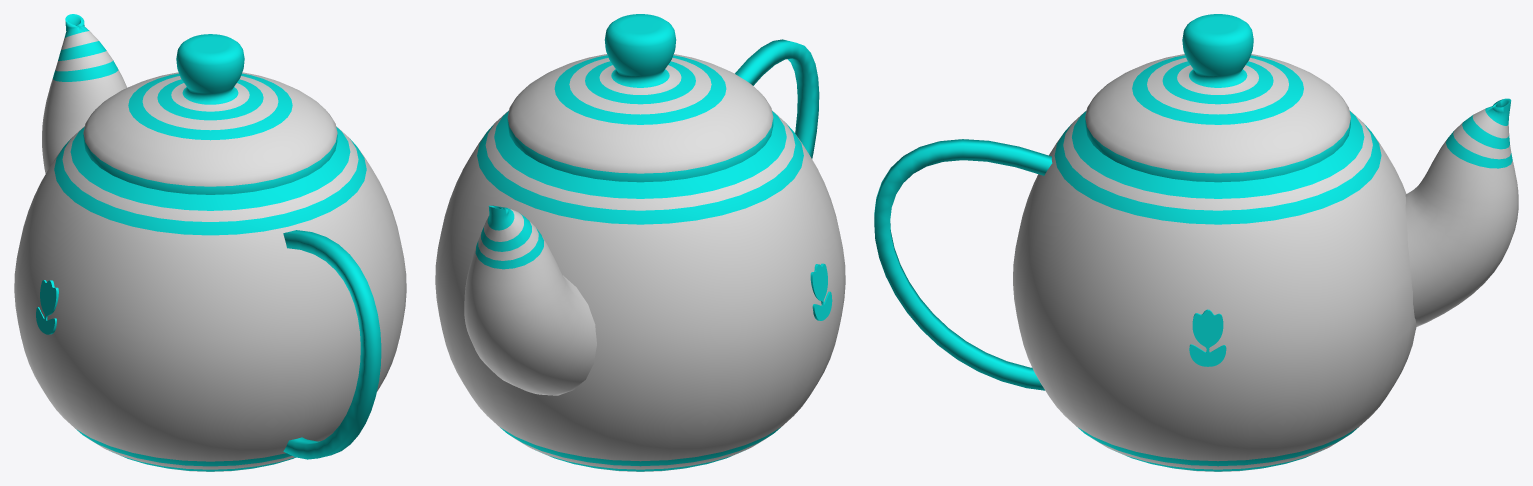
The model's file is teapot.fbx.
The picture shows the model from 3 angles, left to right: view 1: azimuth 30°, elevation 25°; view 2: azimuth 150°, elevation 25°; view 3: azimuth 270°, elevation 25°; orthographic projection. The views are drawn at different scales.
Visible parts, largest first — view 1: BezierCurve; view 2: BezierCurve; view 3: BezierCurve.
Part boxes in pixels (x1=…): BezierCurve: x1=14, y1=14, x2=406, y2=471; BezierCurve: x1=435, y1=14, x2=845, y2=471; BezierCurve: x1=874, y1=14, x2=1518, y2=471.
Size of the model in its own units: 306 by 332 by 475.
